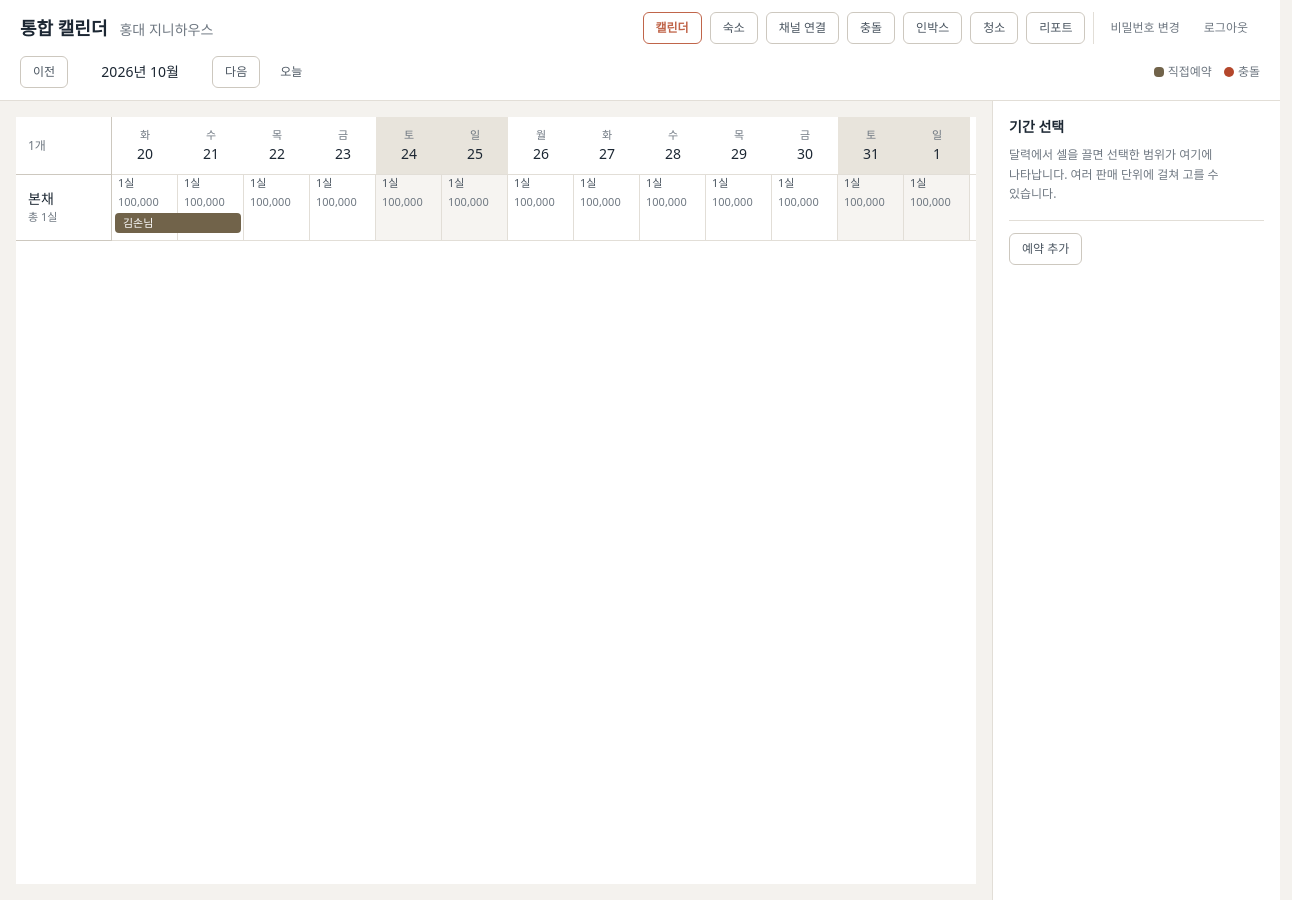
좁은 화면의 아래 판 › 막대를 누르면 판이 열리고 Esc 로 접힌다 — 다시 "예약 추가"만 남는다
Click the button with test id "bar-77" at (178, 223), box top-left (115, 213), bottom-right (241, 233)
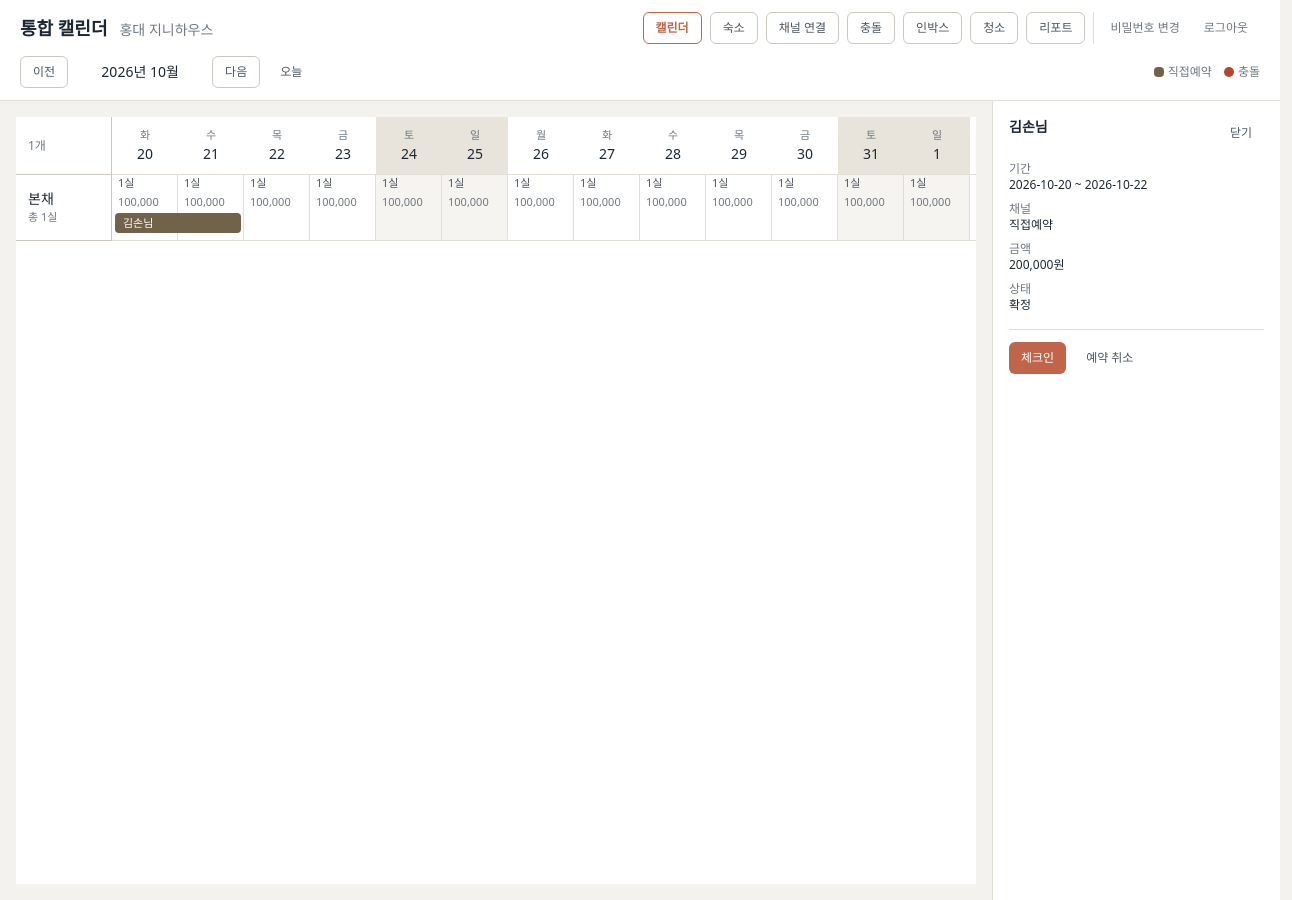
Expected: the element with test id "reservation-panel" is shown, top-left (992, 101), bottom-right (1280, 899)
Press Escape
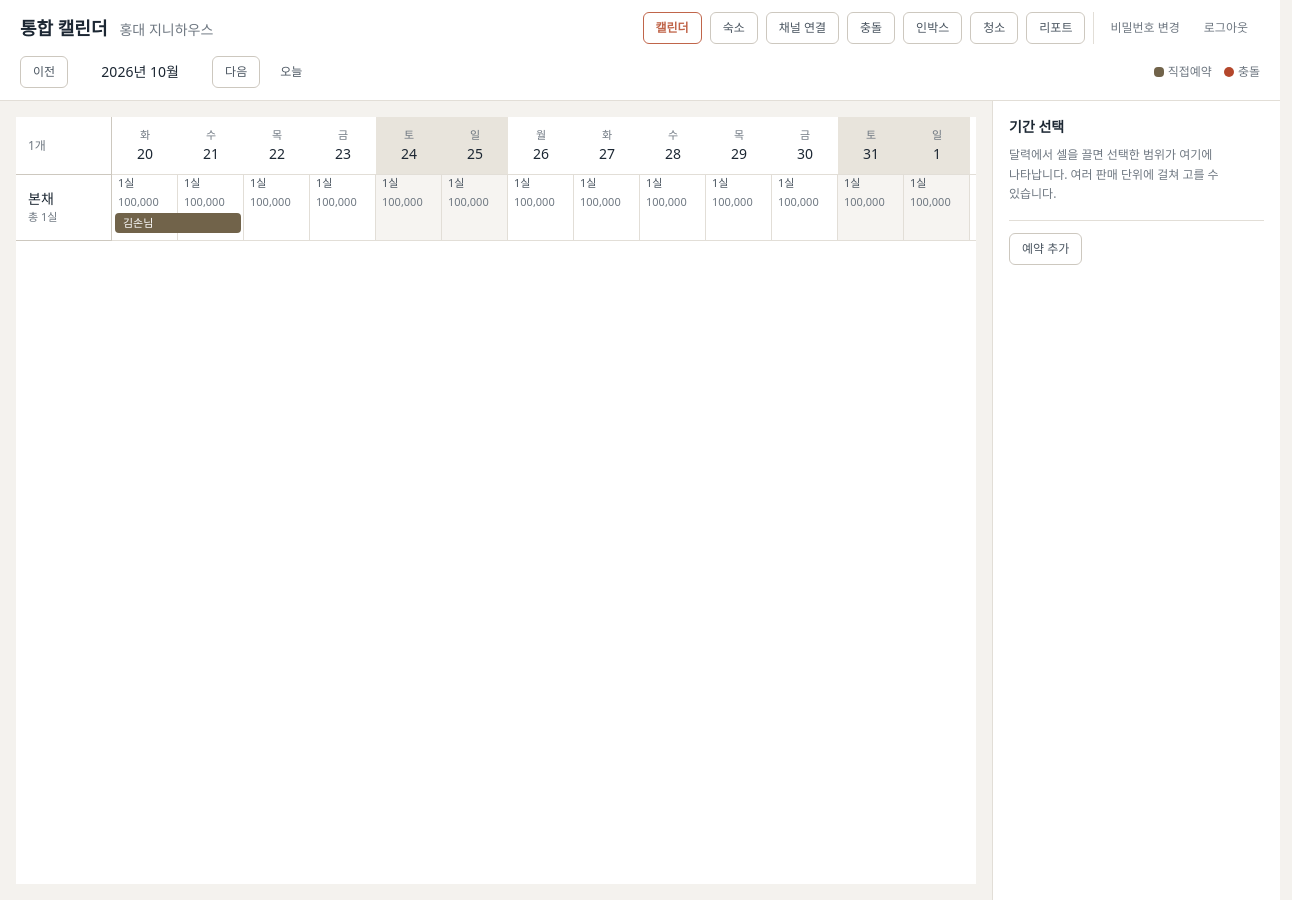
Expected: the element with test id "reservation-panel" is gone
Expected: the button with test id "add-reservation-button" is shown
// "예약 추가"를 열고 Esc 로 닫는다.
Click the button with test id "add-reservation-button" at (1046, 248), box top-left (1009, 232), bottom-right (1082, 264)
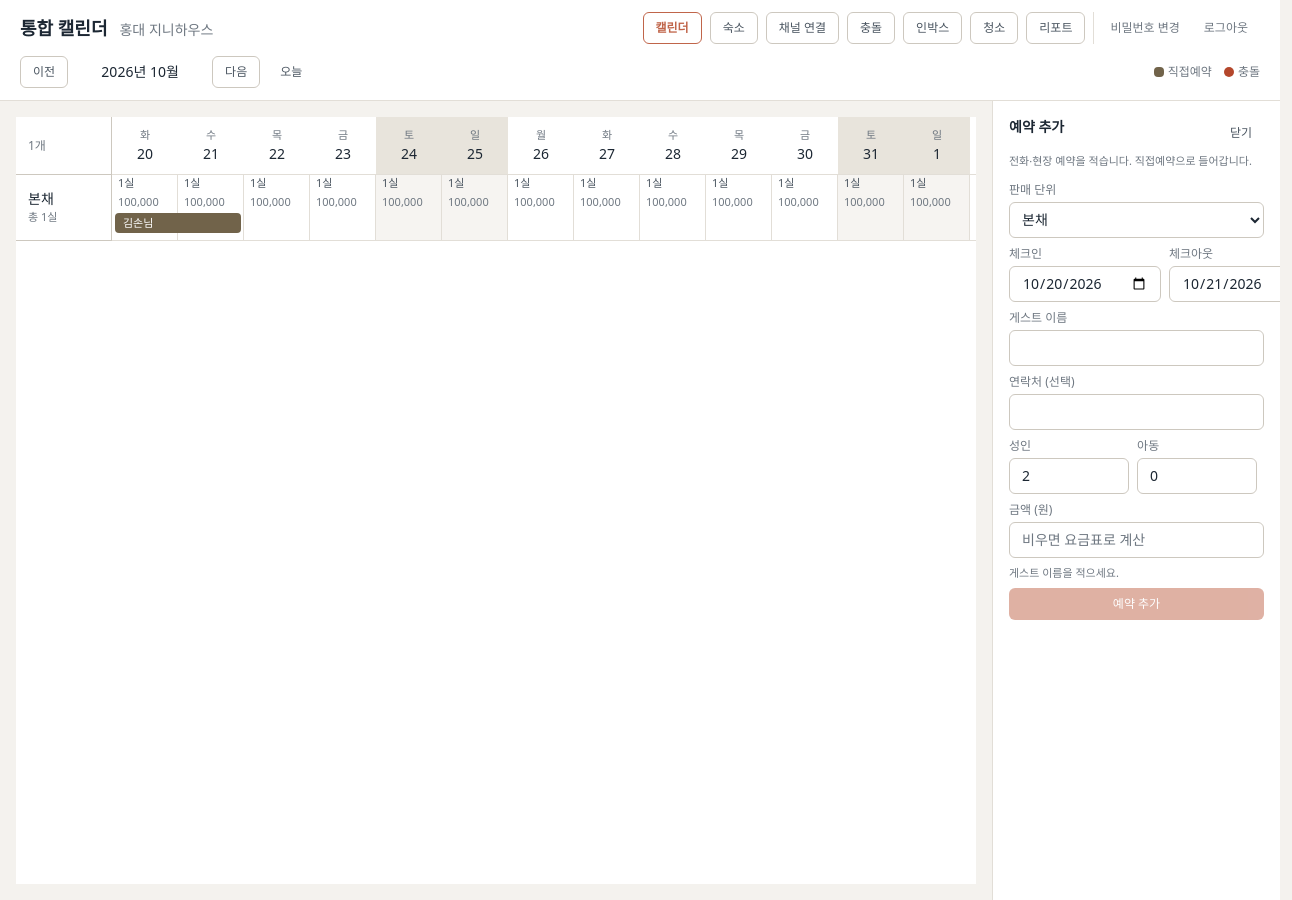
Expected: the element with test id "new-reservation-panel" is shown, top-left (992, 101), bottom-right (1280, 899)
Press Escape
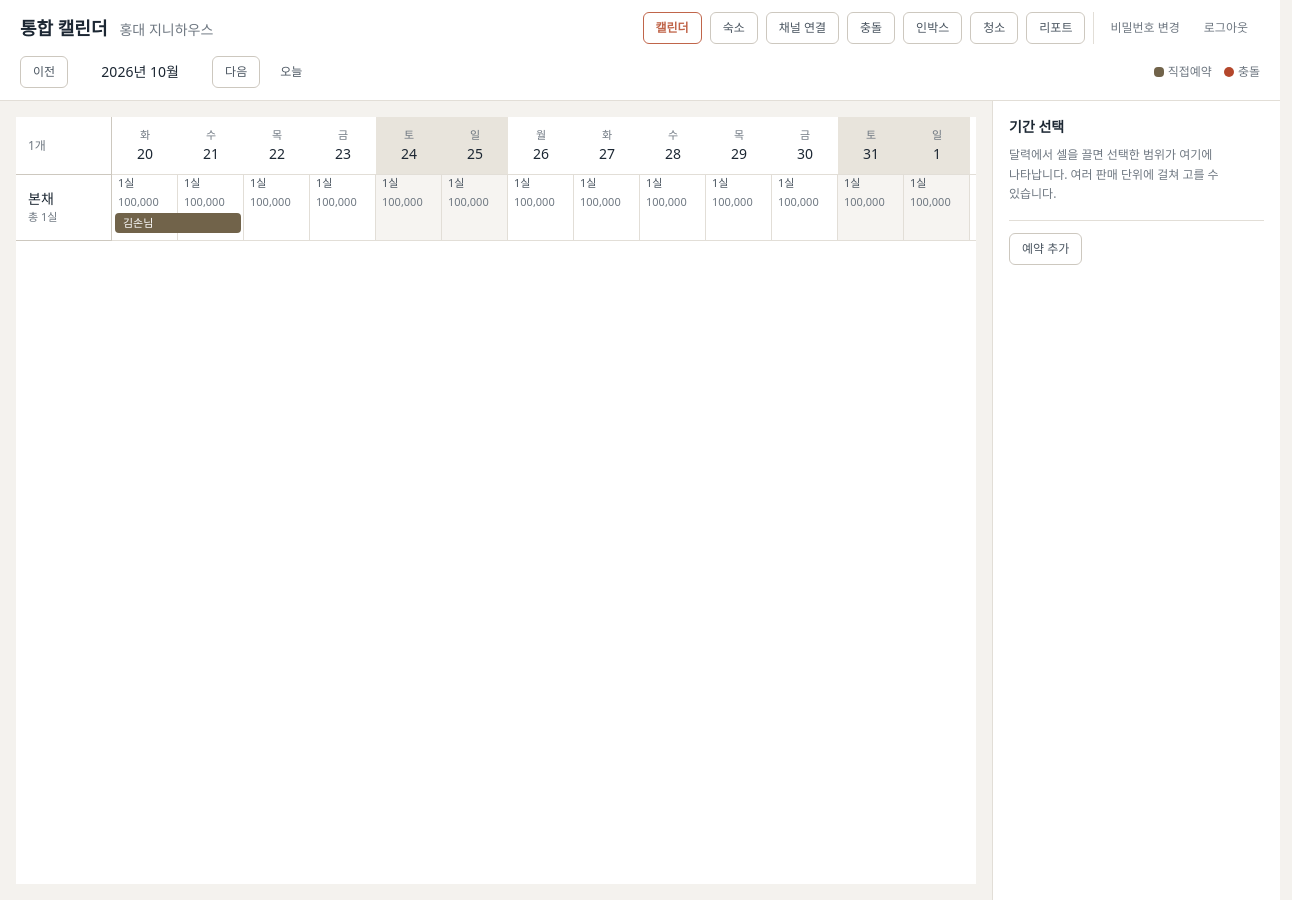
Expected: the element with test id "new-reservation-panel" is gone
